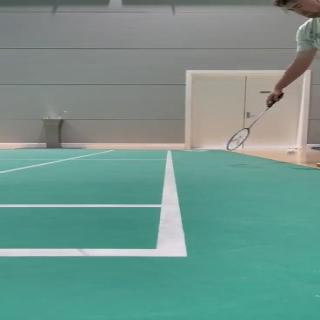Shuttle: (285, 149, 298, 156)
